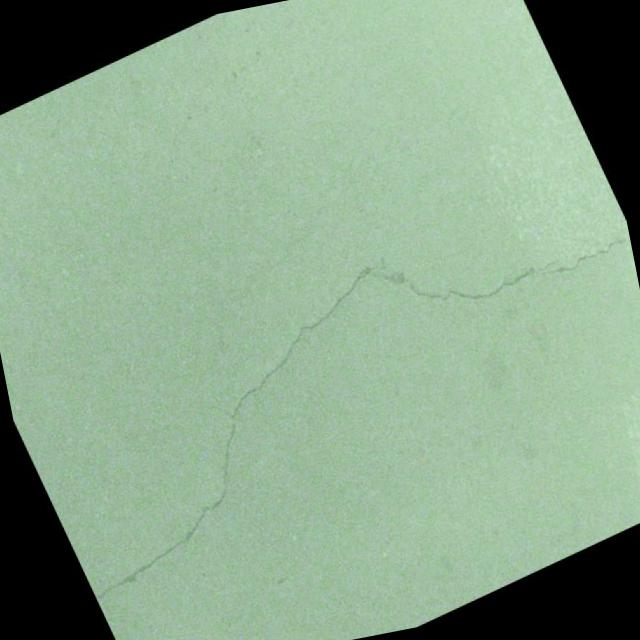crack: (0, 139, 640, 640), (162, 120, 444, 338)
